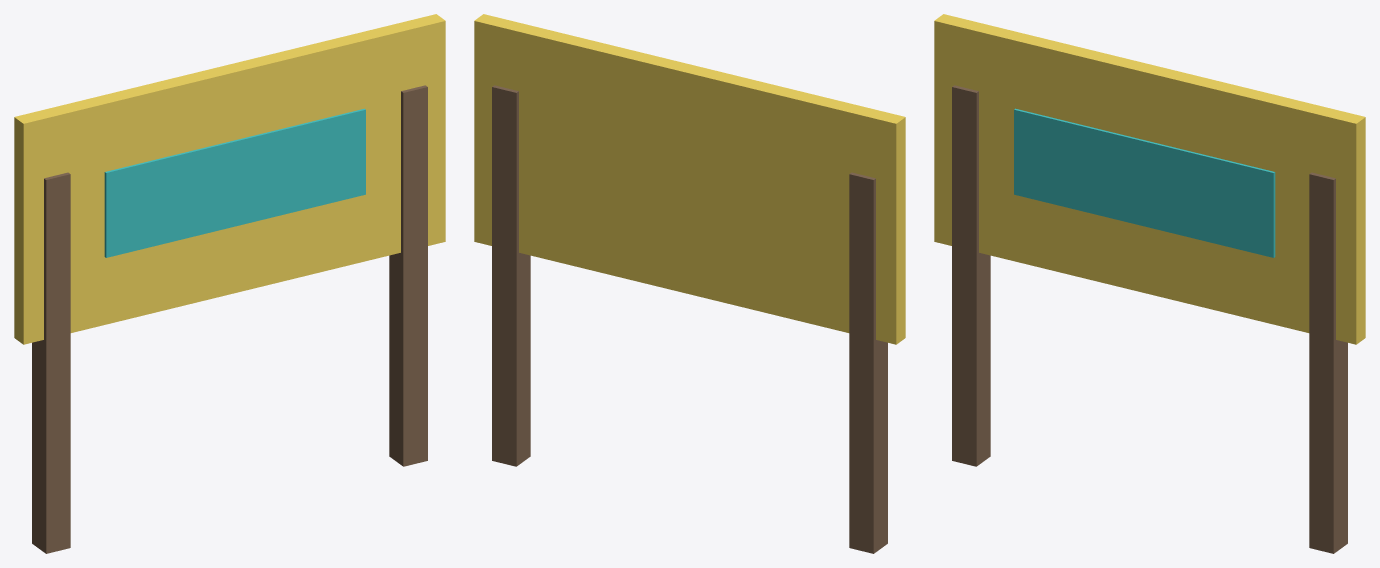
File: smash_board.glb
3 renders of one model, left to right at view 1: azimuth 30°, elevation 25°; view 2: azimuth 150°, elevation 25°; view 3: azimuth 330°, elevation 25°, orthographic.
Visible parts, largest first — view 1: smash_board; view 2: smash_board; view 3: smash_board.
Part boxes in pixels (left/top/right/bottom): smash_board: left=14, top=14, right=445, bottom=553; smash_board: left=474, top=14, right=905, bottom=553; smash_board: left=934, top=14, right=1365, bottom=553.
Size of the model in its own units: 2.6 by 2.55 by 0.15.
